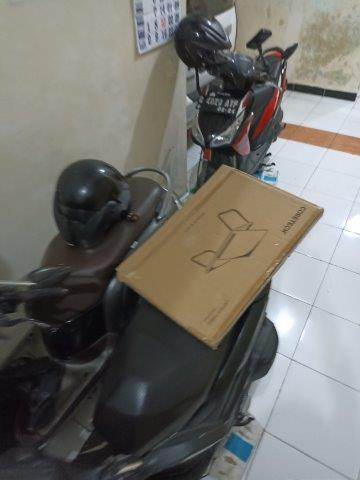kardus: (120, 166, 323, 345)
